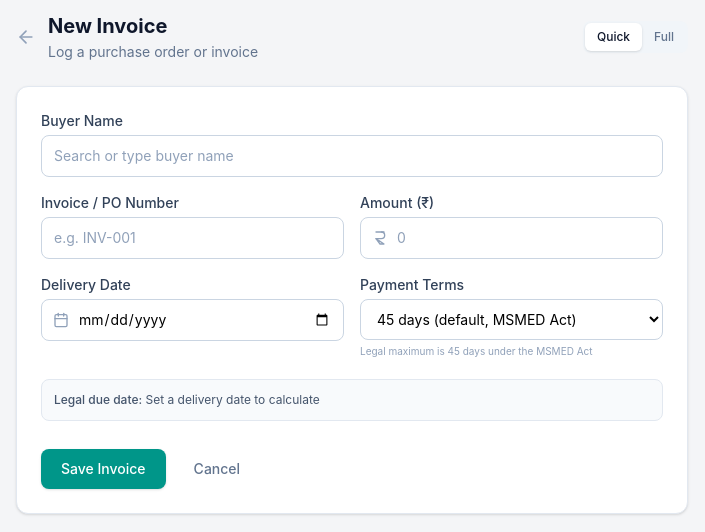
Scenario: Legal due date calculation display › updates due date when payment terms change
Type "2026-06-01" into the date field labelled "Delivery Date".
click(192, 320); type("2026-06-01")  # box [41,299,344,341]
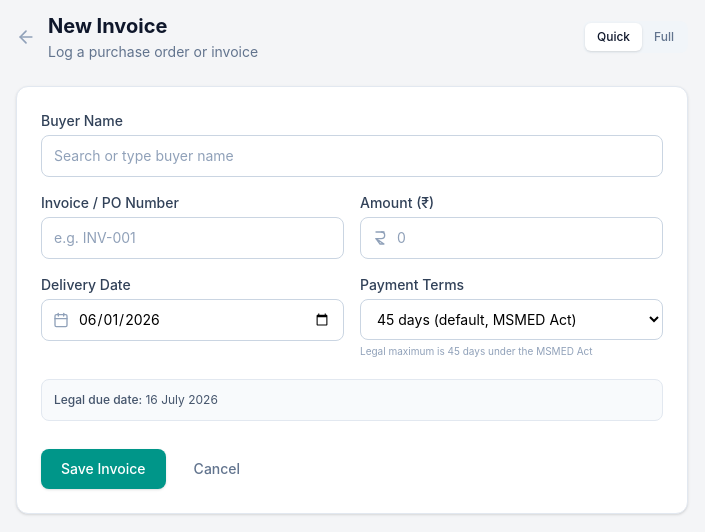
Select "30 days" in the dropdown at (512, 320), box [360,299,663,340]
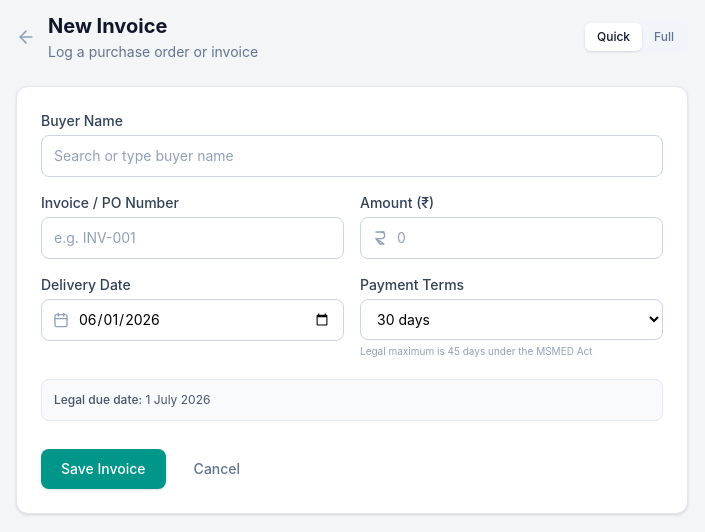
Expected: the text "Legal due date: 1 July 2026" is shown, [54,392,210,407]
